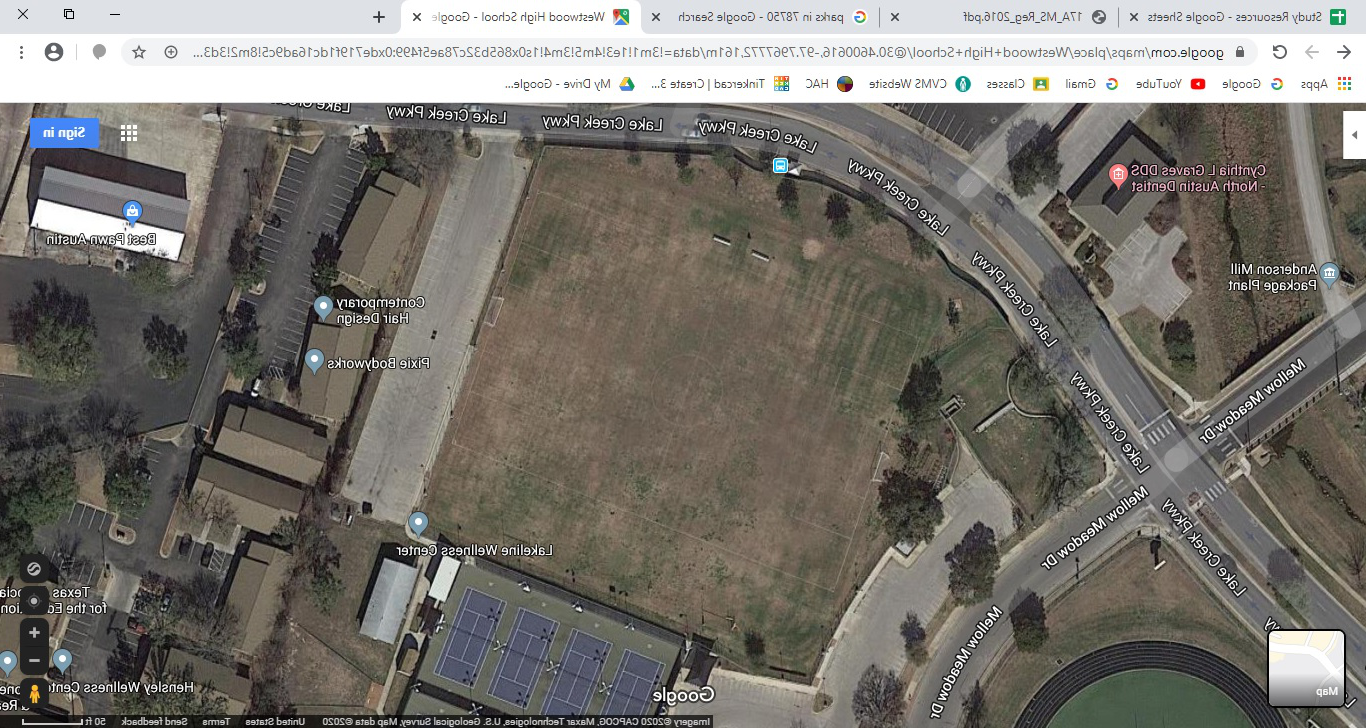soccer: (541, 209, 891, 574)
